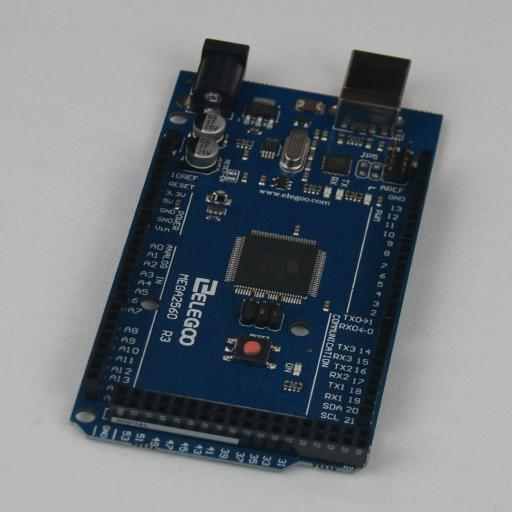Arduino Mega 2560 -Blue-: (70, 38, 443, 474)
